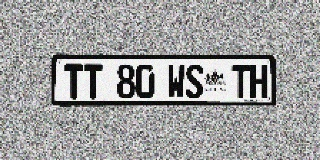0: (136, 64, 154, 99)
8: (117, 64, 135, 99)
H: (250, 65, 267, 98)
S: (186, 64, 203, 98)
T: (64, 64, 83, 99), (84, 64, 102, 99), (232, 65, 249, 98)
W: (167, 64, 185, 99)
